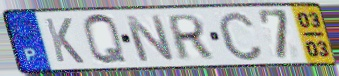7: (254, 8, 293, 62)
C: (215, 9, 266, 63)
K: (42, 16, 87, 65)
N: (121, 14, 178, 64)
Q: (81, 13, 131, 68)
R: (166, 12, 214, 62)
